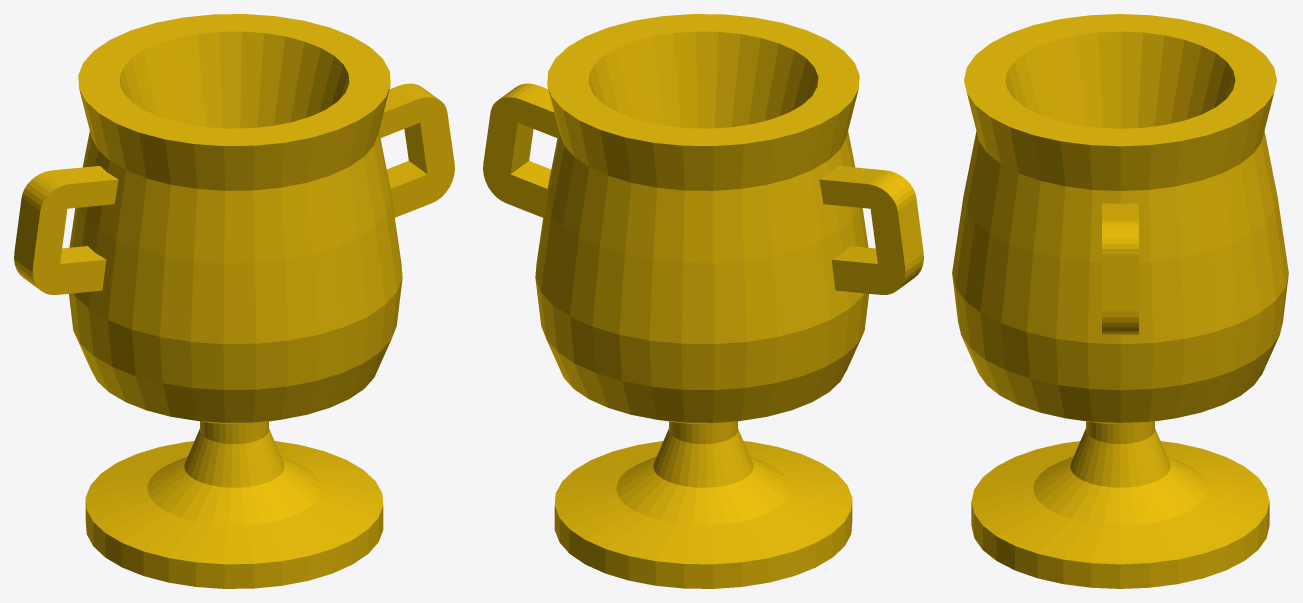
The model's file is cup.fbx.
The picture shows the model from 3 angles, left to right: view 1: azimuth 30°, elevation 25°; view 2: azimuth 150°, elevation 25°; view 3: azimuth 270°, elevation 25°; orthographic projection.
Parts seen in each view (by area): view 1: Circle.001; view 2: Circle.001; view 3: Circle.001.
Boxes of the visible parts, bbox=[...] form: Circle.001: bbox=[14, 14, 454, 588]; Circle.001: bbox=[483, 14, 923, 588]; Circle.001: bbox=[952, 14, 1288, 588].
Bounding box in the file's own units: 597 × 603 × 413.
